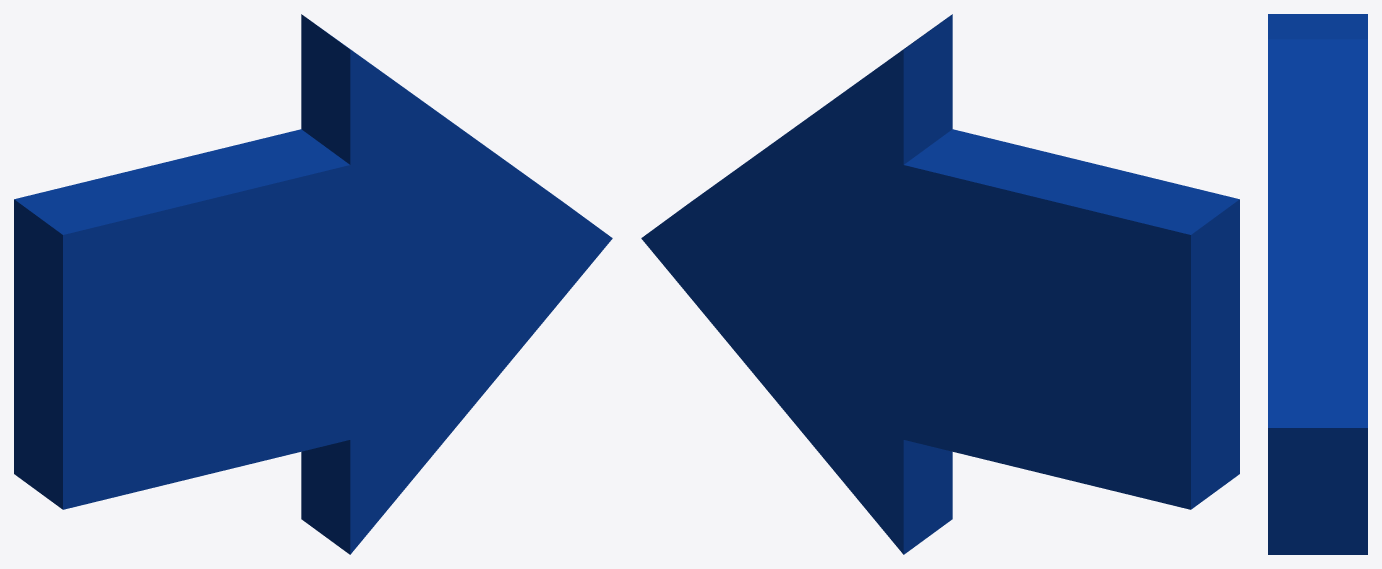
Rendered from grabber_arrow_up.obj.
3 renders of one model, left to right at view 1: azimuth 30°, elevation 25°; view 2: azimuth 150°, elevation 25°; view 3: azimuth 270°, elevation 25°, orthographic. The views are drawn at different scales.
Parts seen in each view (by area): view 1: grabber_arrow_up_Plane.003_blue; view 2: grabber_arrow_up_Plane.003_blue; view 3: grabber_arrow_up_Plane.003_blue.
Part boxes in pixels (x1,y1,x2,y2): grabber_arrow_up_Plane.003_blue: (14, 14, 612, 554); grabber_arrow_up_Plane.003_blue: (641, 14, 1239, 554); grabber_arrow_up_Plane.003_blue: (1268, 14, 1367, 554).
Bounding box in the file's own units: 1.84 × 1.62 × 0.2839.
